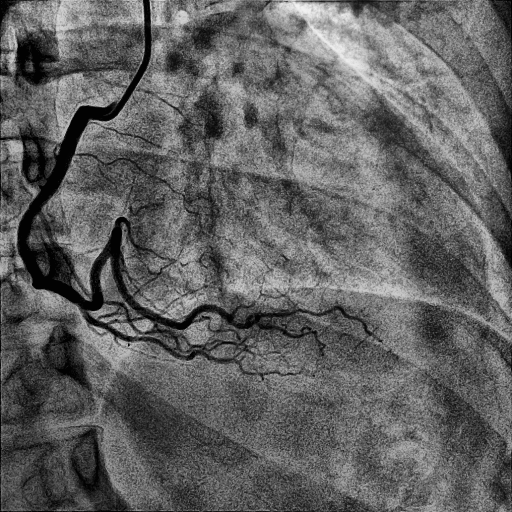pborca: (86, 225, 253, 330)
pda: (80, 310, 233, 363)
rca: (17, 105, 103, 310)
